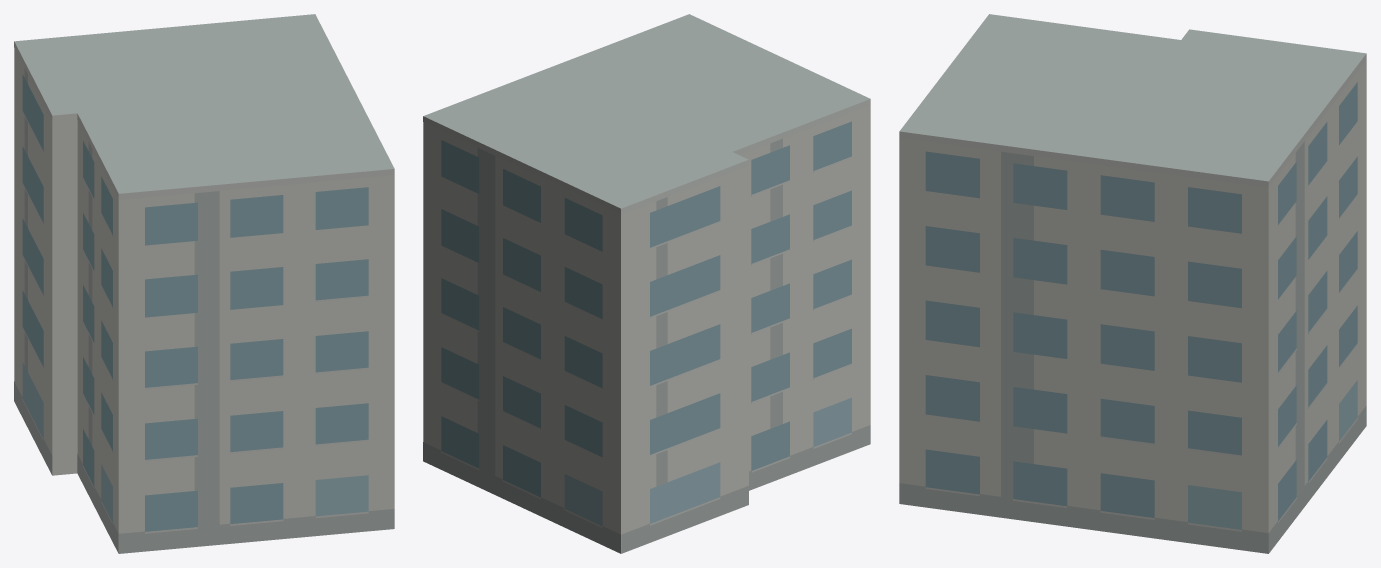
The model's file is survey-upis-32787719.glb.
3 views of the same model, side by side, from view 1: azimuth 30°, elevation 25°; view 2: azimuth 150°, elevation 25°; view 3: azimuth 270°, elevation 25° (orthographic). The views are drawn at different scales.
Parts seen in each view (by area): view 1: survey-upis-32787719.tmp; view 2: survey-upis-32787719.tmp; view 3: survey-upis-32787719.tmp.
Boxes of the visible parts, x1,y1,x2,y2 form: survey-upis-32787719.tmp: (14,14,394,553); survey-upis-32787719.tmp: (423,14,870,553); survey-upis-32787719.tmp: (899,14,1366,553).
Bounding box in the file's own units: 13.41 × 13.9 × 15.81.
